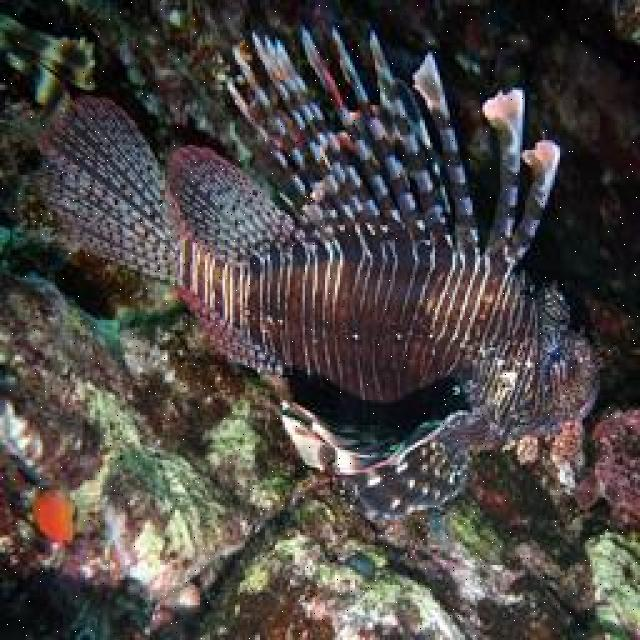fish: (16, 28, 602, 521), (0, 16, 95, 103), (33, 488, 76, 544)
